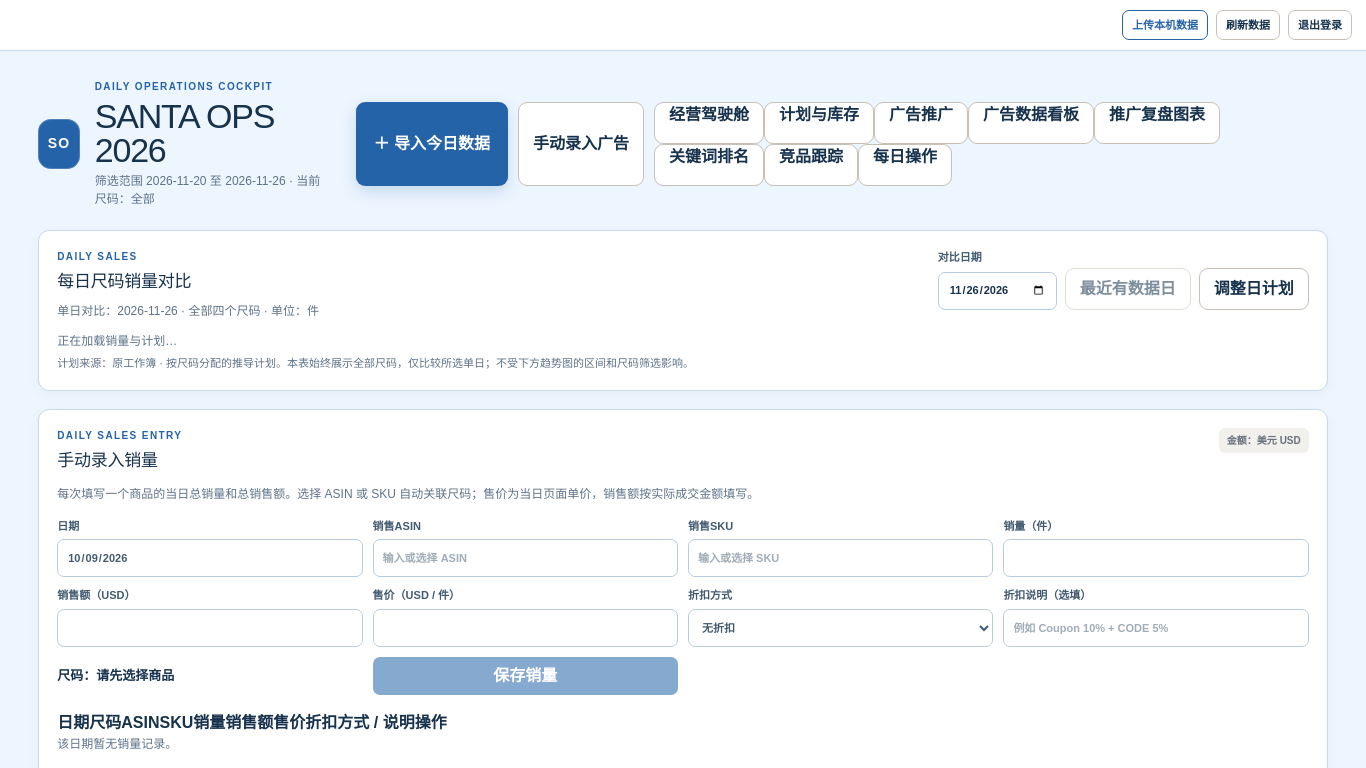
Test: daily operations page › saves a note without requiring or displaying a time
The width and height of the screenshot is (1366, 768).
Click the button "每日操作" at point(905, 164), box [858,144,952,186]
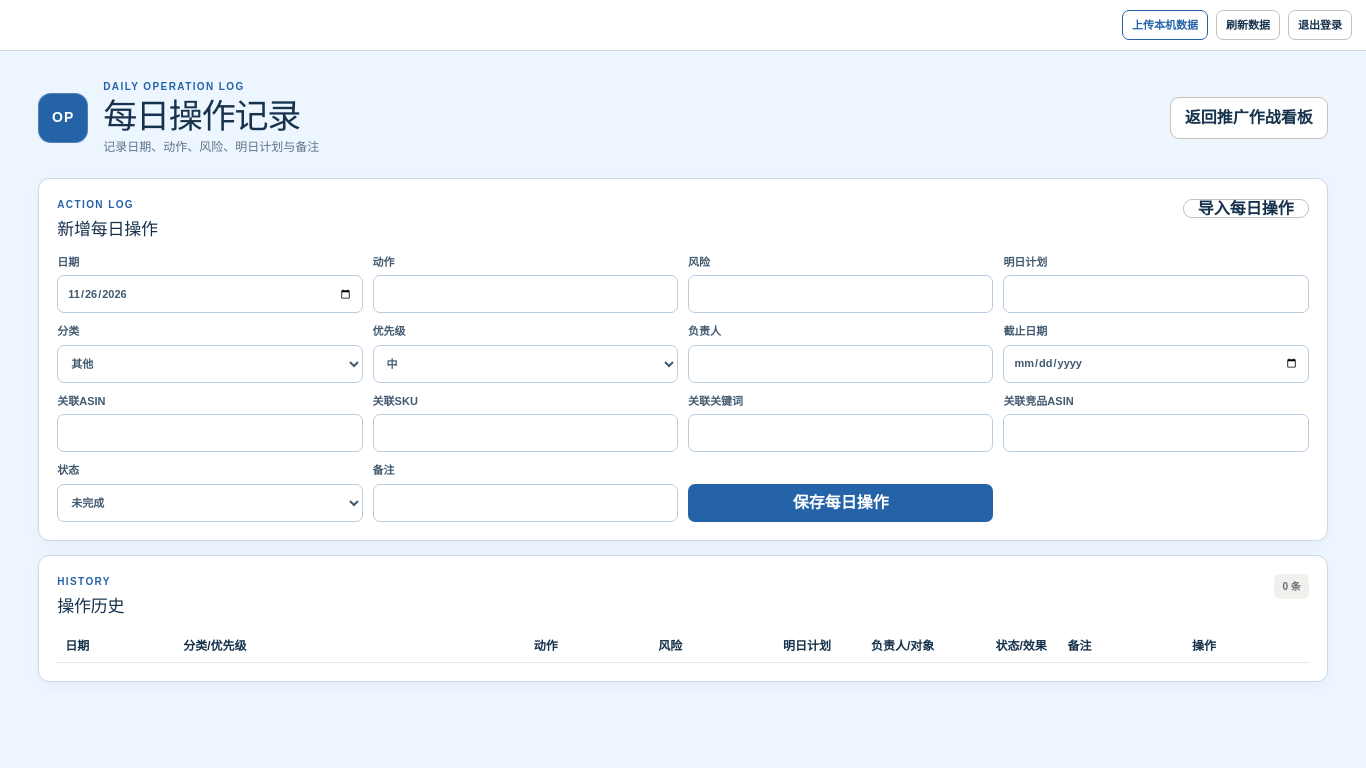
Result: the heading "每日操作记录" is shown at [103,99,319,133]
Type "2026-10-02" into the date field labelled "日期" at point(210, 294), box [57,275,363,313]
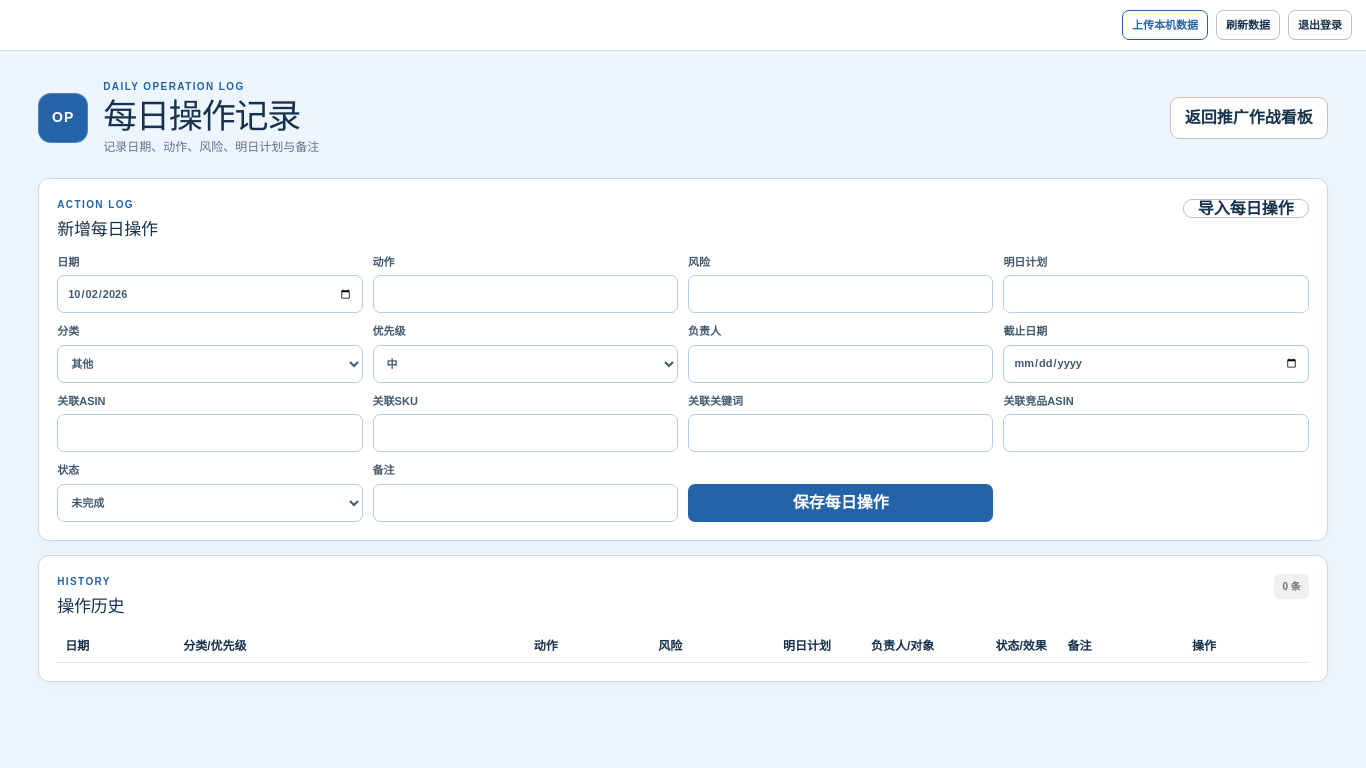
Type "提高核心词预算" into the field labelled "动作" at point(525, 294), box [373,275,678,313]
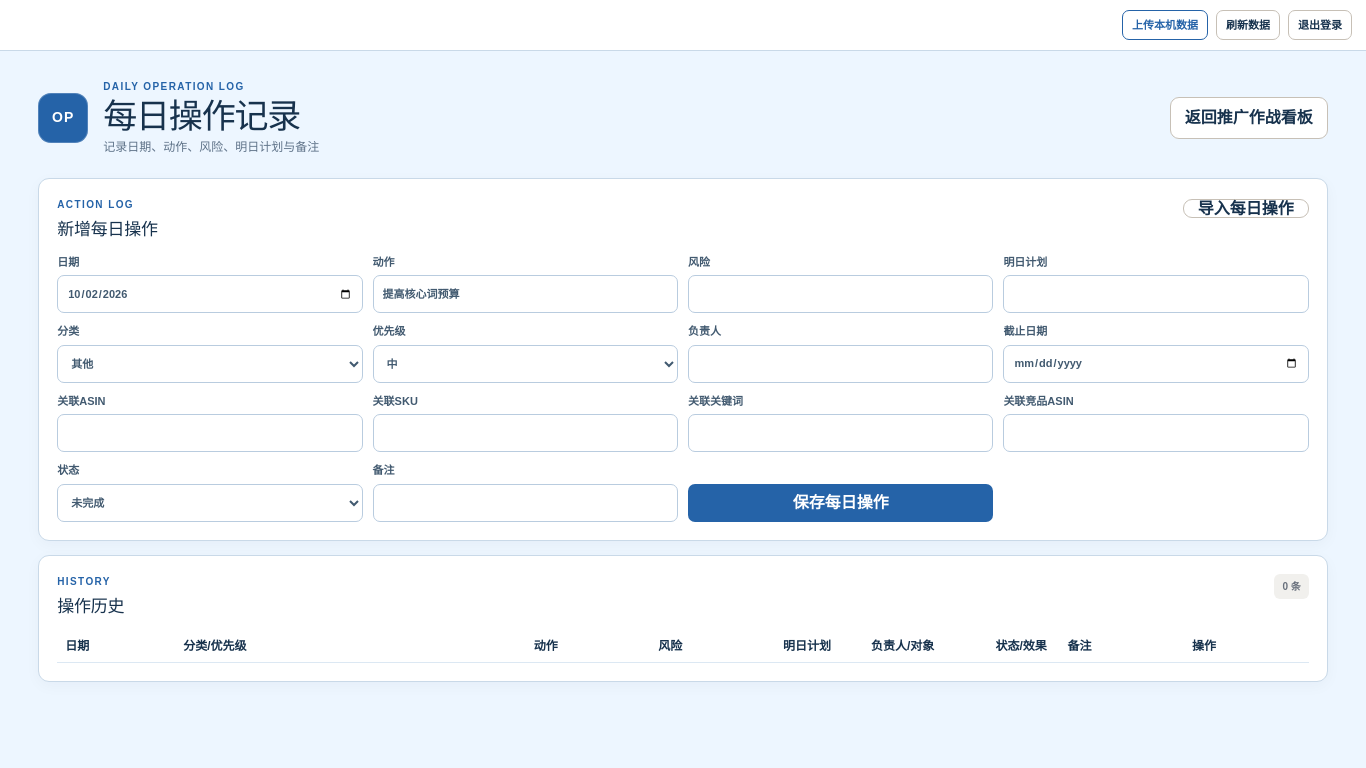
Type "午后复查" into the field labelled "备注" at point(525, 502), box [373,484,678,522]
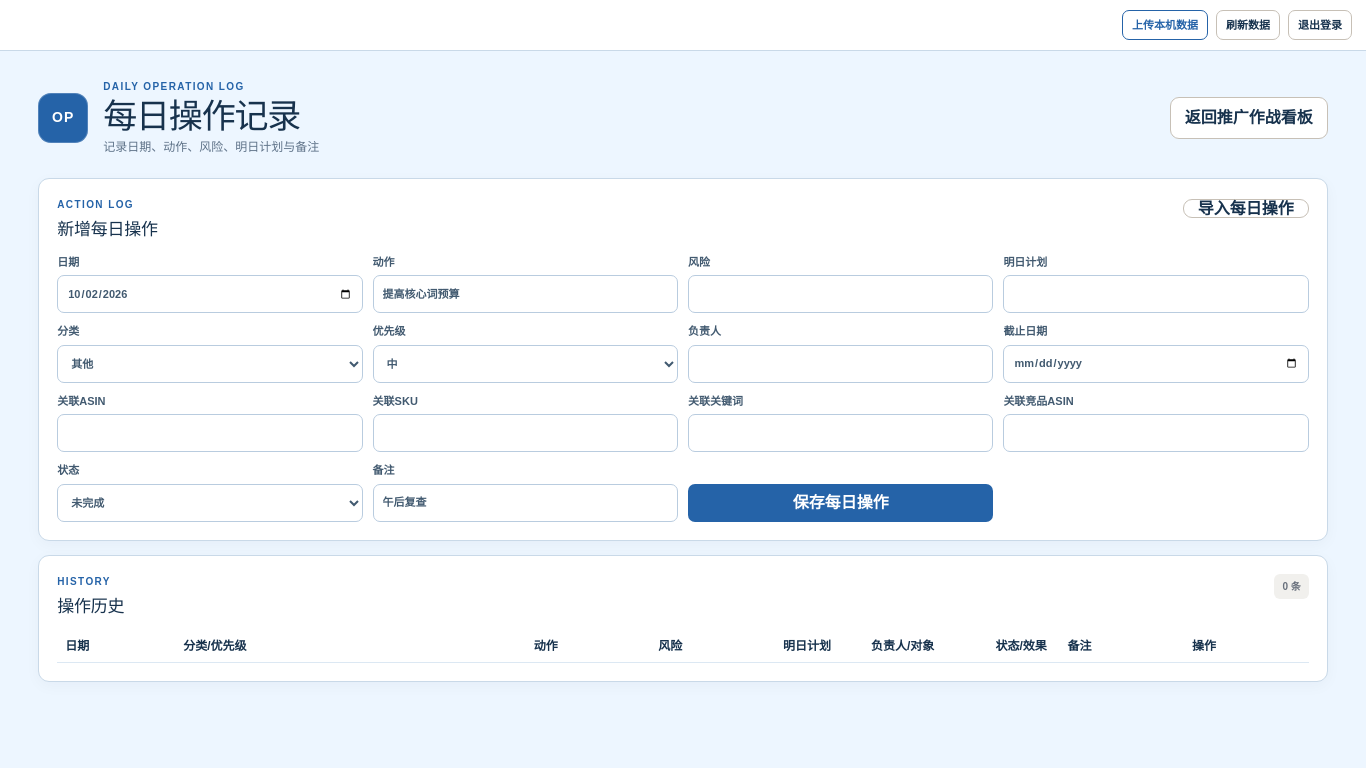
Click the button "保存每日操作" at point(841, 502), box [688,484,993,522]
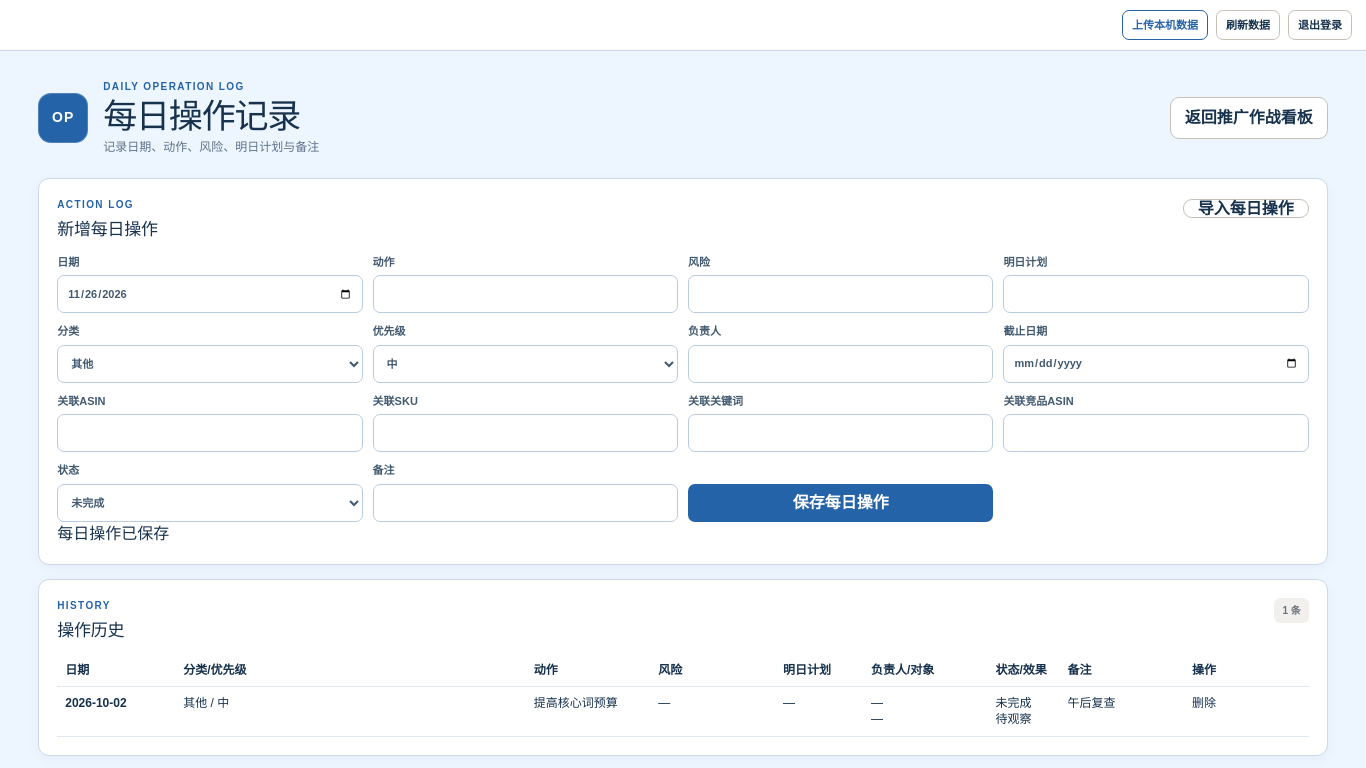
Result: the column heading "备注" is shown at [1060,654,1184,687]
Result: the message reads "每日操作已保存" at [57,524,169,542]
Result: the text "午后复查" is shown at [1060,687,1184,736]
